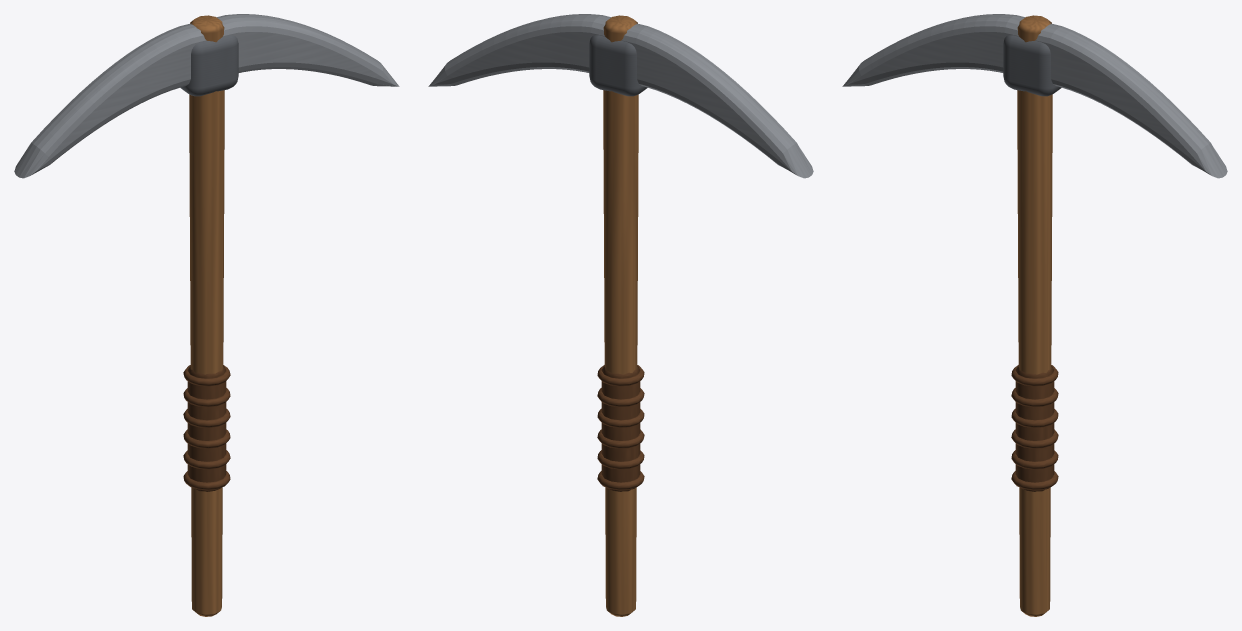
Rendered from pickaxe.glb.
The picture shows the model from 3 angles, left to right: view 1: azimuth 30°, elevation 25°; view 2: azimuth 150°, elevation 25°; view 3: azimuth 330°, elevation 25°; orthographic projection.
Visible parts, largest first — view 1: head, haft, grip; view 2: head, haft, grip; view 3: head, haft, grip.
Boxes of the visible parts, x1,y1,x2,y2 form: head: (14,14,399,178); haft: (189,15,224,616); grip: (183,365,230,491); head: (428,14,813,178); haft: (603,15,638,616); grip: (597,365,644,491); head: (842,14,1227,178); haft: (1017,15,1052,616); grip: (1011,365,1058,491).
Bounding box in the file's own units: 0.5092 × 0.76 × 0.0555.
4 materials, 4 textured.
